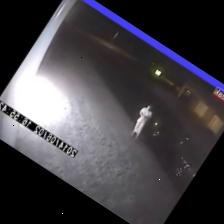person: (131, 105, 151, 138)
